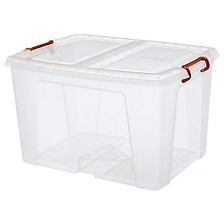plastic_box: (0, 24, 224, 195)
